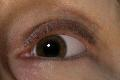eye: (37, 35, 68, 59)
